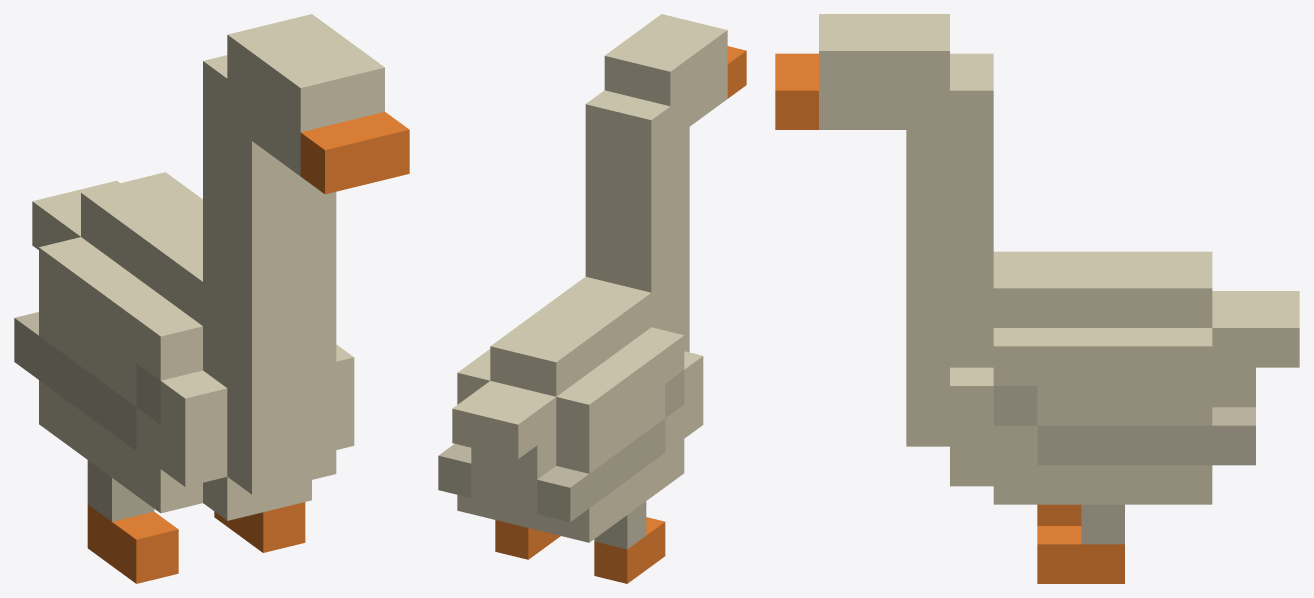
The model's file is Animal_Bird_Goose.obj.
The picture shows the model from 3 angles, left to right: view 1: azimuth 30°, elevation 25°; view 2: azimuth 150°, elevation 25°; view 3: azimuth 270°, elevation 25°; orthographic projection. The views are drawn at different scales.
Size of the model in its own units: 0.4 by 1.3 by 1.2.
1 material, 1 textured.
